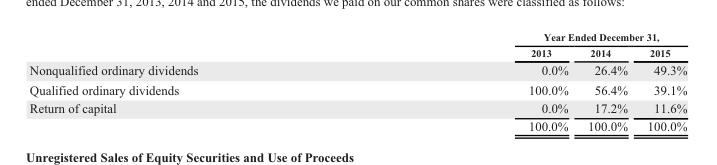table: (28, 29, 686, 133)
table column: (28, 29, 362, 133), (362, 29, 577, 133), (577, 29, 636, 133), (636, 29, 686, 133)
table column header: (28, 29, 686, 60)
table row: (28, 60, 686, 79), (28, 79, 686, 98), (28, 98, 686, 116), (28, 116, 686, 133), (28, 44, 686, 60), (28, 29, 686, 44)
table spanning cell: (362, 29, 686, 44)
